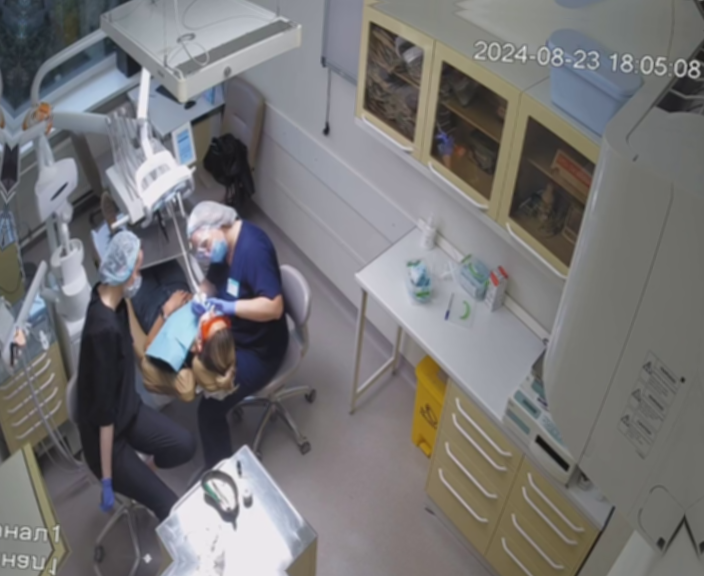Patient: (70, 203, 253, 406)
